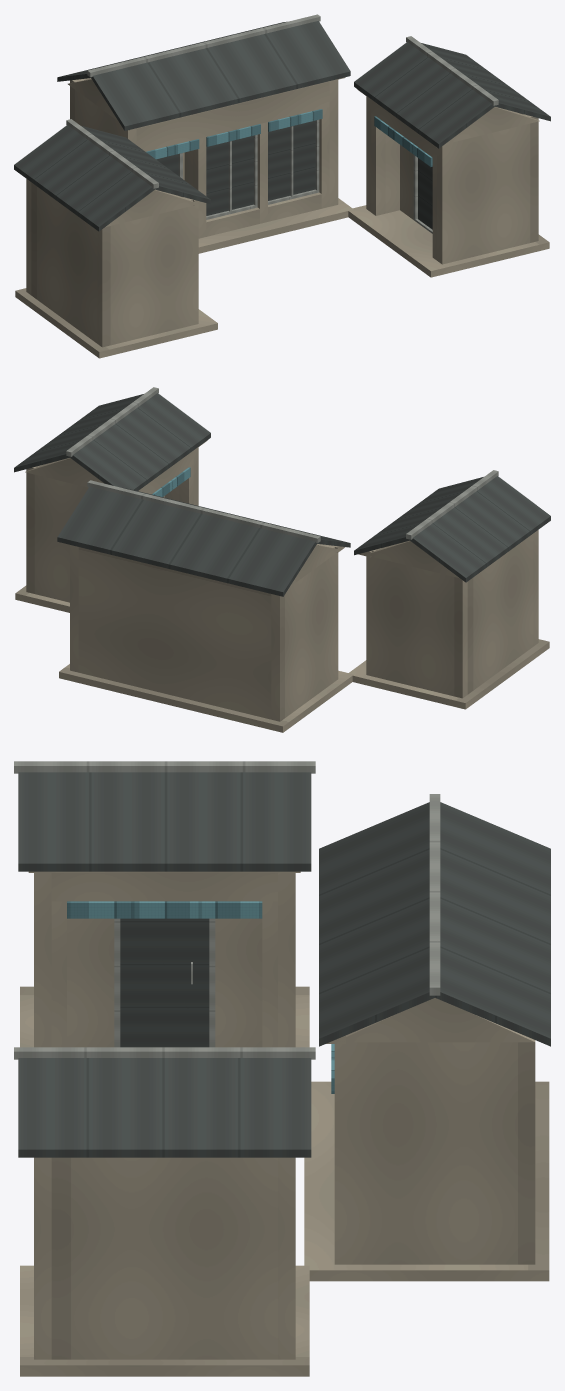
File: honiara.glb
3 views of the same model, one above another, from view 1: azimuth 30°, elevation 25°; view 2: azimuth 150°, elevation 25°; view 3: azimuth 270°, elevation 25° (orthographic). The views are drawn at different scales.
Parts seen in each view (by area): view 1: honiara; view 2: honiara; view 3: honiara.
Boxes of the visible parts, x1,y1,x2,y2 form: honiara: (14, 14, 550, 358); honiara: (14, 387, 550, 732); honiara: (14, 761, 550, 1376).
Size of the model in its own units: 8.6 by 3.12 by 5.13.
1 material, 1 textured.
